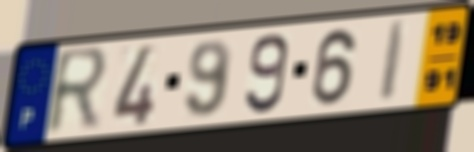4: (111, 41, 159, 128)
6: (311, 25, 360, 109)
9: (184, 37, 233, 120), (244, 32, 291, 114)
I: (377, 18, 411, 104)
R: (43, 43, 113, 140)
